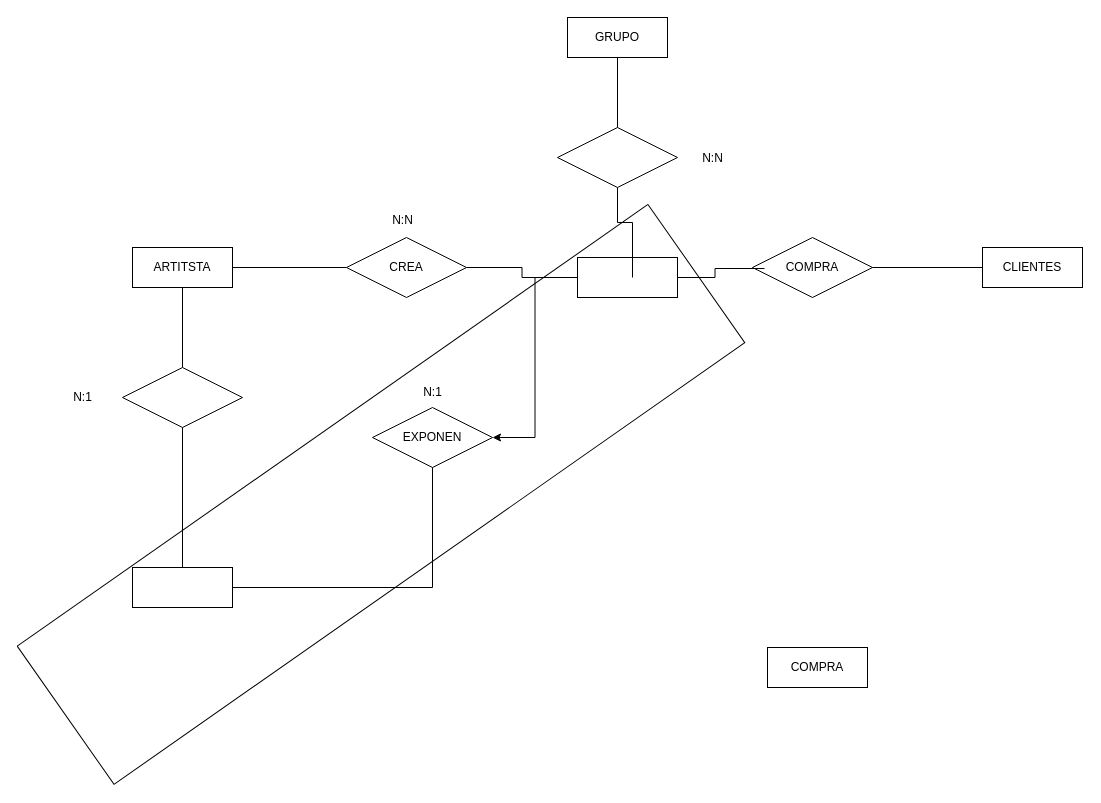
The diagram is 1101 pixels wide and 803 high, and some of its shapes have lost their labels. Each missing label, with the centre of its shape:
"EXPONE" belongs at point 182,397.
"EXPOSICION" belongs at point 182,587.
"PIEZAS" belongs at point 627,277.
"TIENE" belongs at point 617,157.
